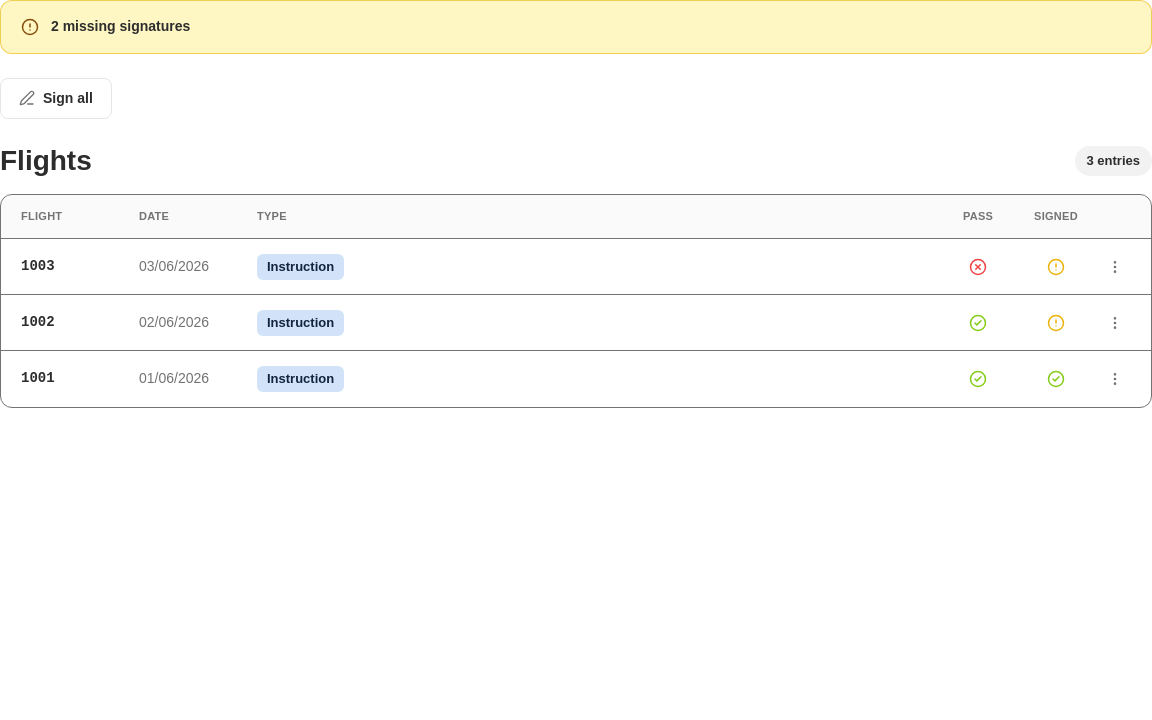
Test: Signatures › opens the evaluation modal for a row and signs it via the API
Click the button named "Open evaluation for flight 1002": (1115, 323) [1103, 311, 1127, 335]
(page scrolled)
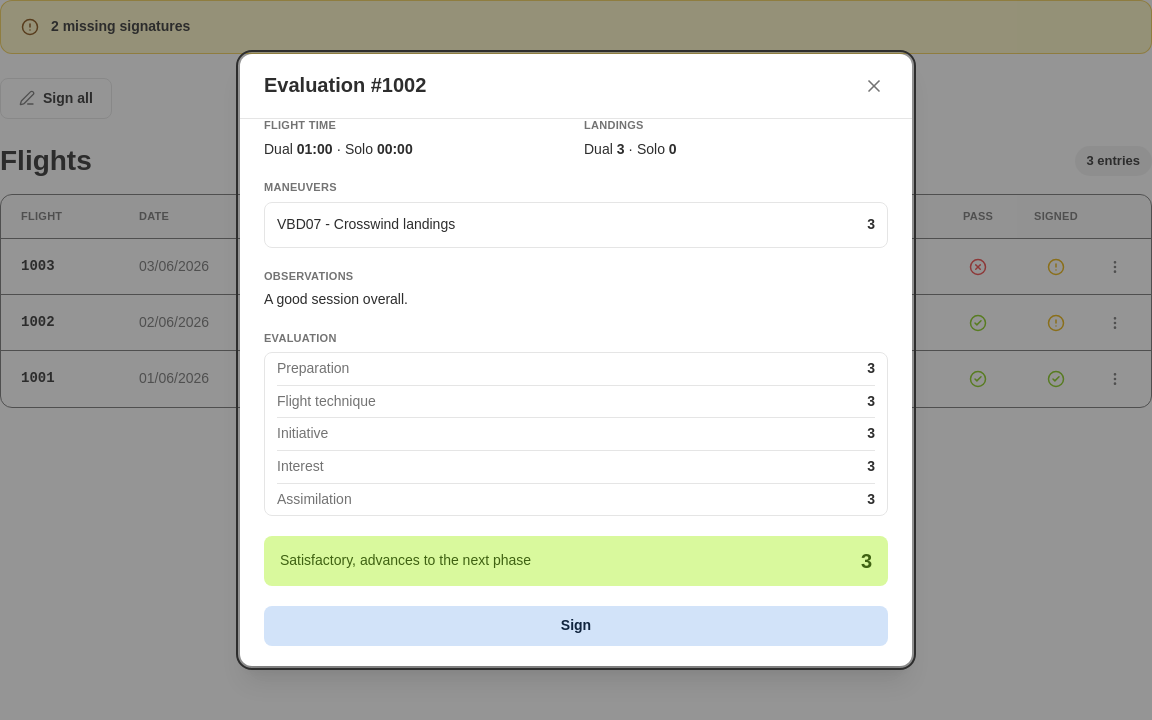
Expected: the heading "Evaluation #1002" is shown, [264, 72, 426, 98]
Click the button "Sign": (576, 626) [264, 606, 888, 646]
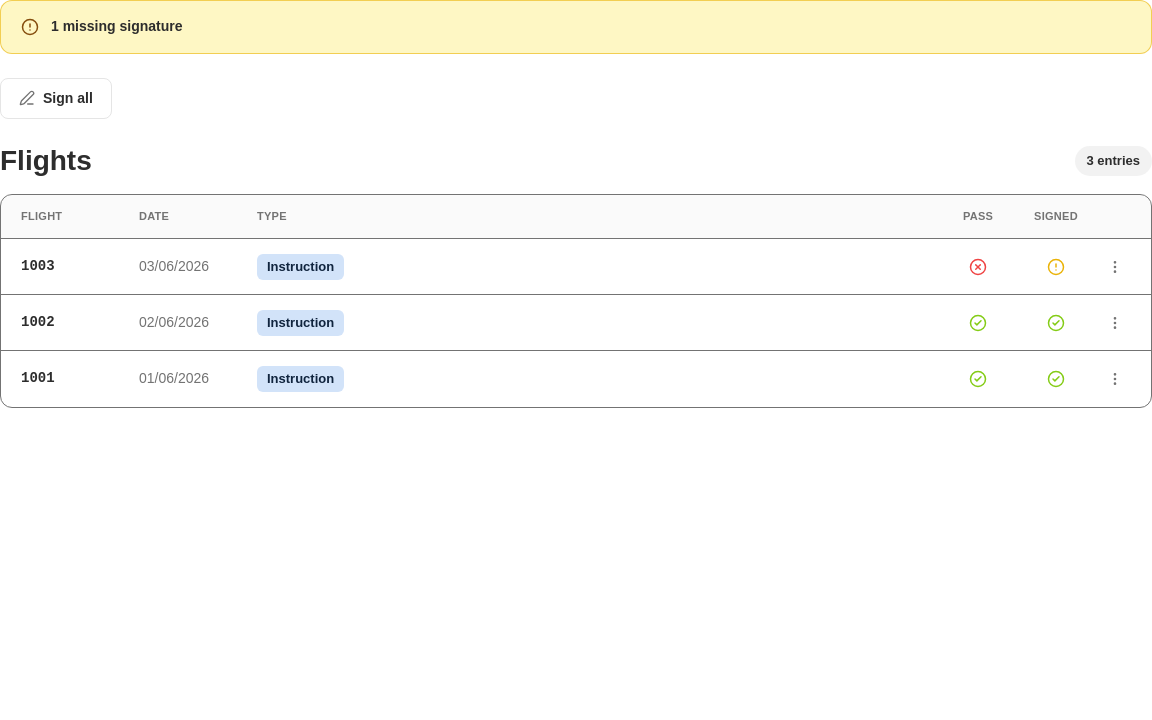
Expected: the text "1 missing signature" is shown, [51, 17, 182, 37]
Expected: the dialog is gone
